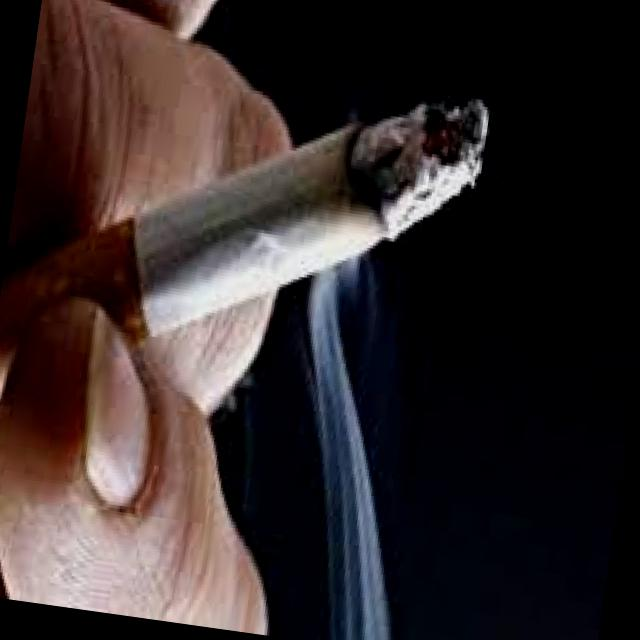smoke: (0, 25, 495, 480)
